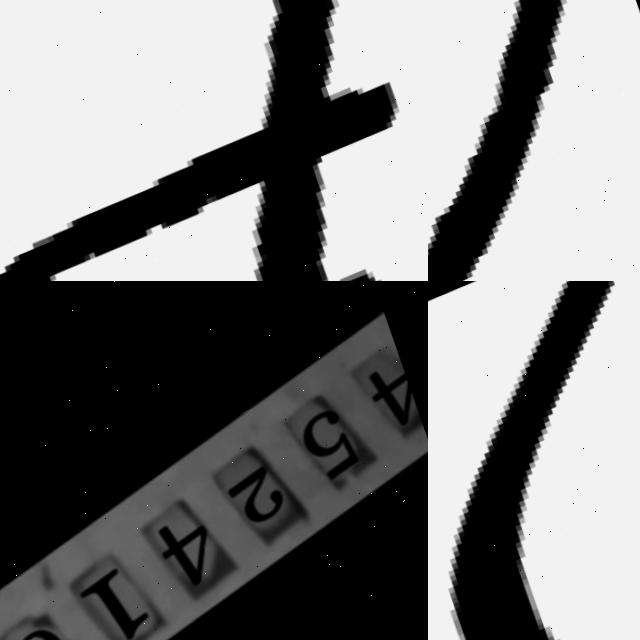1: (67, 547, 177, 640)
2: (428, 281, 640, 640), (212, 442, 315, 559)
4: (136, 489, 248, 616), (346, 345, 428, 457)
5: (284, 390, 385, 505)
6: (0, 600, 108, 640)
F: (0, 0, 401, 281)
O: (428, 0, 571, 281)
